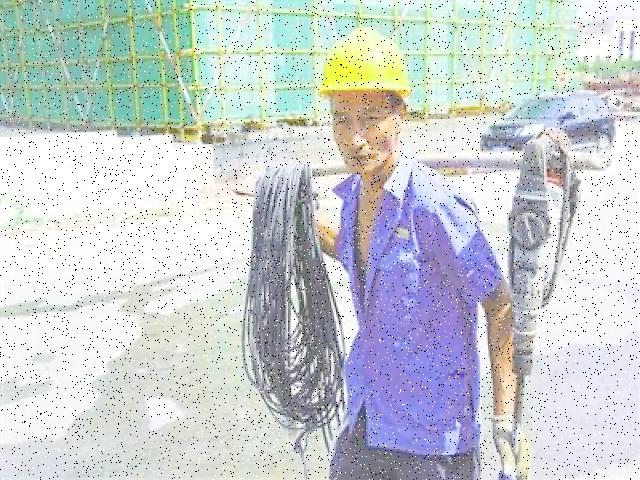Helmet: (313, 19, 414, 106)
